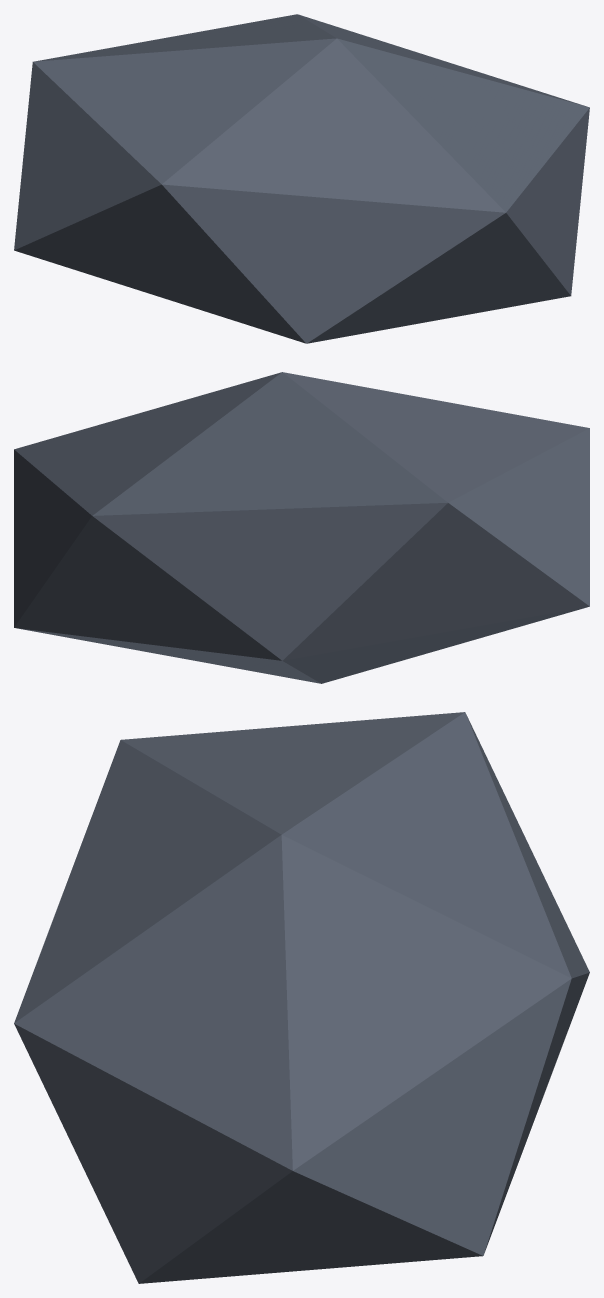
The model's file is EXT_SouthCliff_00_Shard_0.glb.
3 views of the same model, one above another, from view 1: azimuth 30°, elevation 25°; view 2: azimuth 150°, elevation 25°; view 3: azimuth 270°, elevation 25° (orthographic). The views are drawn at different scales.
Parts seen in each view (by area): view 1: EXT_SouthCliff_00_Shard_0; view 2: EXT_SouthCliff_00_Shard_0; view 3: EXT_SouthCliff_00_Shard_0.
Boxes of the visible parts, left/top/right/bottom form: EXT_SouthCliff_00_Shard_0: left=14, top=14, right=589, bottom=343; EXT_SouthCliff_00_Shard_0: left=14, top=372, right=589, bottom=683; EXT_SouthCliff_00_Shard_0: left=14, top=712, right=589, bottom=1283.
Size of the model in its own units: 2.16 by 1.01 by 1.47.
